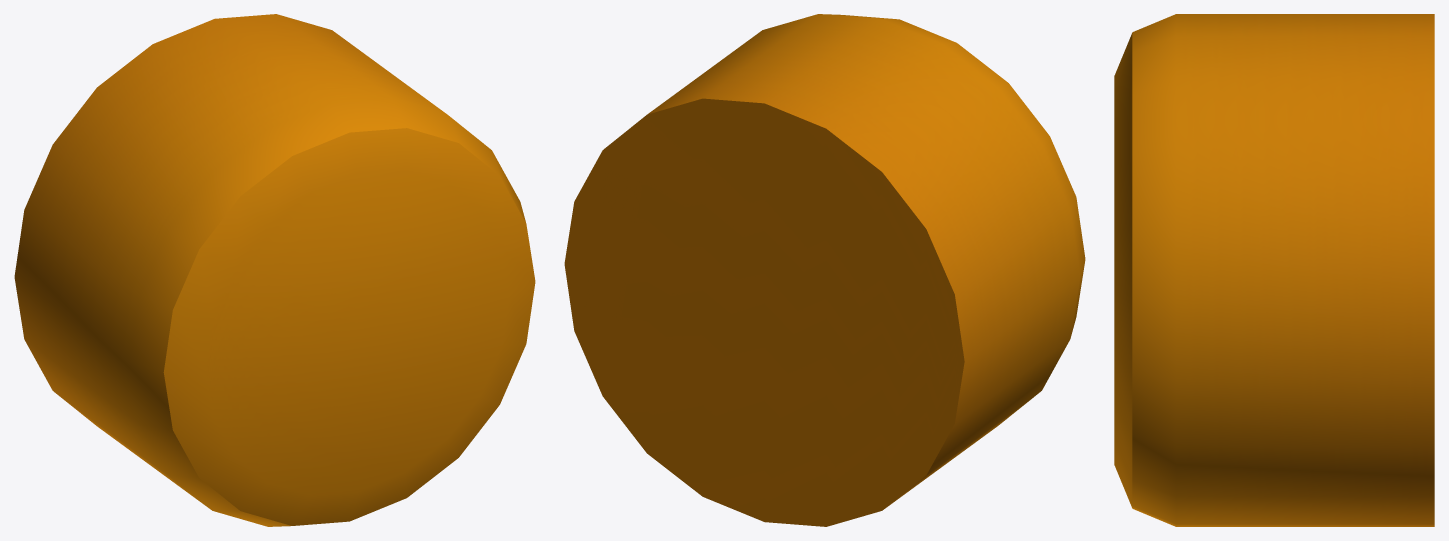
The model's file is carrot1_slices_1.fbx.
3 renders of one model, left to right at view 1: azimuth 30°, elevation 25°; view 2: azimuth 150°, elevation 25°; view 3: azimuth 270°, elevation 25°, orthographic. The views are drawn at different scales.
Visible parts, largest first — view 1: carrot1_slices.001; view 2: carrot1_slices.001; view 3: carrot1_slices.001.
Boxes of the visible parts, box(x1,y1,x2,y2) form: carrot1_slices.001: box(14, 14, 535, 526); carrot1_slices.001: box(564, 14, 1085, 526); carrot1_slices.001: box(1114, 14, 1434, 526).
Bounding box in the file's own units: 89.92 × 89.92 × 55.73.
